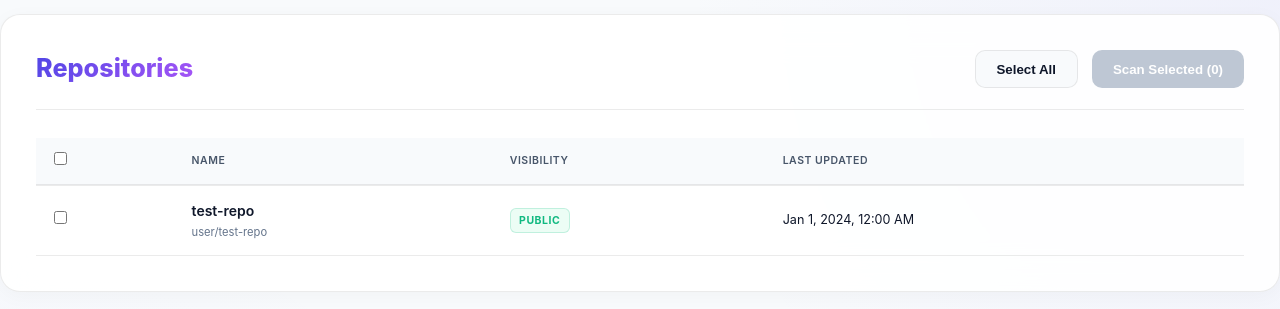
Test: RepositoryList Component › Unit Tests › should allow selecting a repository
Check: the text "test-repo" is shown, box [192, 202, 254, 219]
Click the checkbox named "Select test-repo".
click(60, 218)  # box [54, 211, 66, 224]
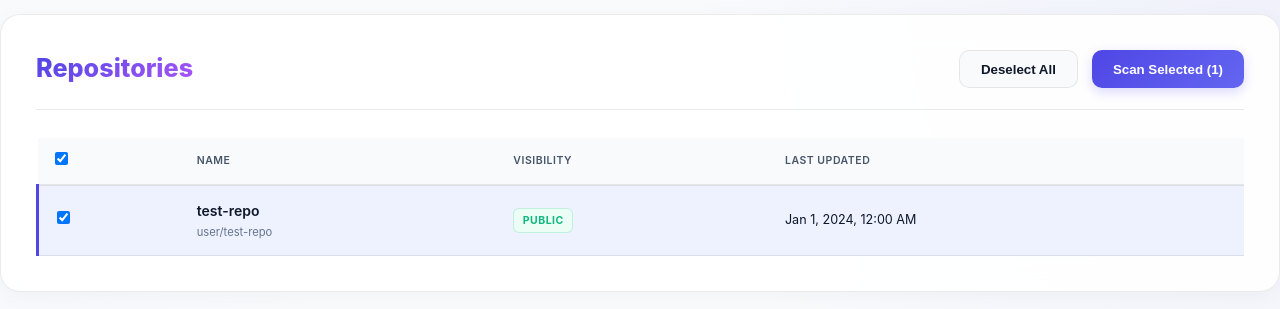
Check: the checkbox named "Select test-repo" is checked, box [56, 211, 70, 224]
Check: the button "Scan Selected (1)" is shown, box [1092, 50, 1244, 88]
